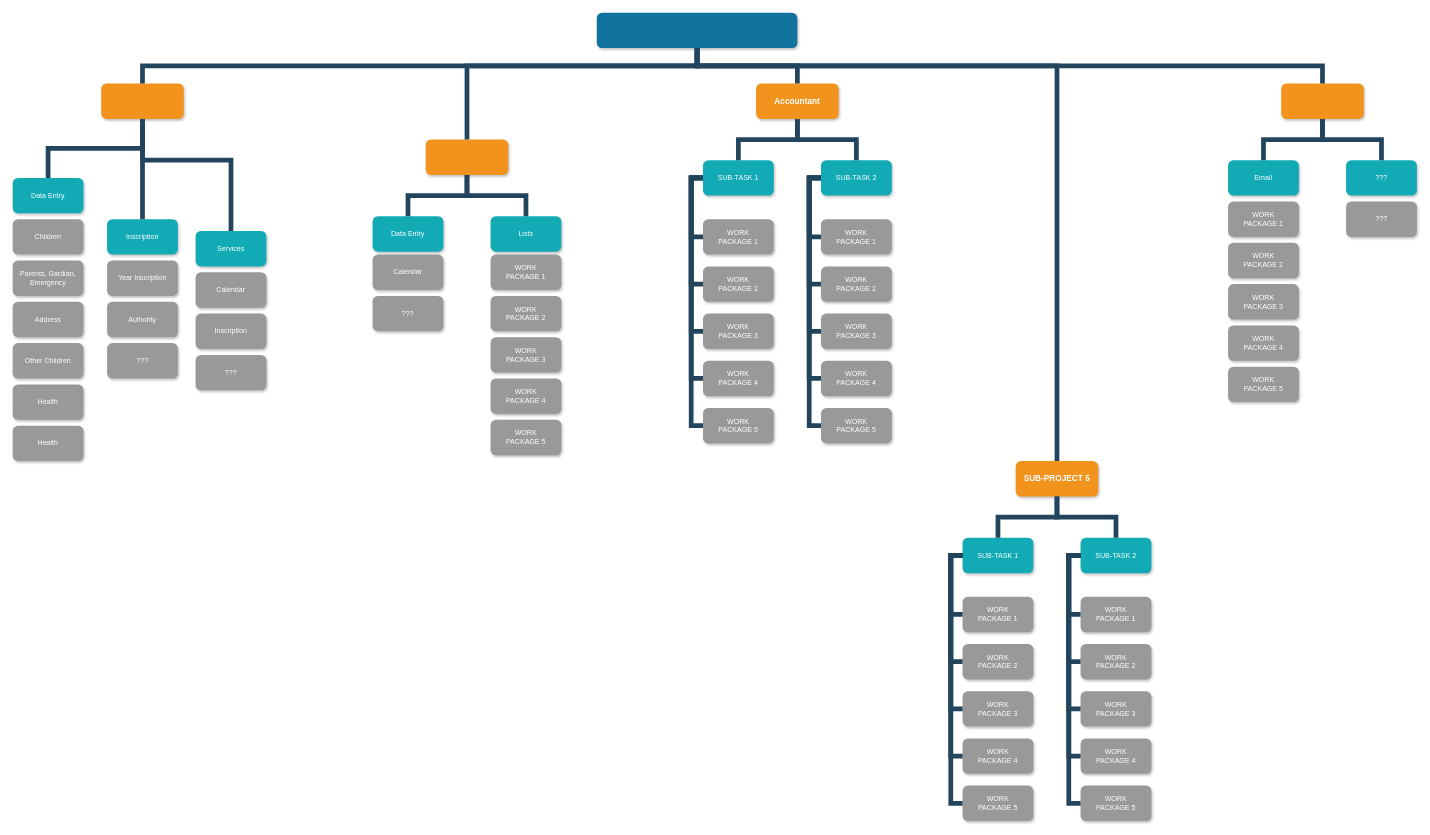
Some shapes in this 1430 by 835 pixel diagram are drawn without their labels. The centre of each missing label's shape, as x and y in pixels:
Automation: the point at 1323,102
CCMS Map: the point at 697,31
Staff: the point at 467,158
Users: the point at 143,102
